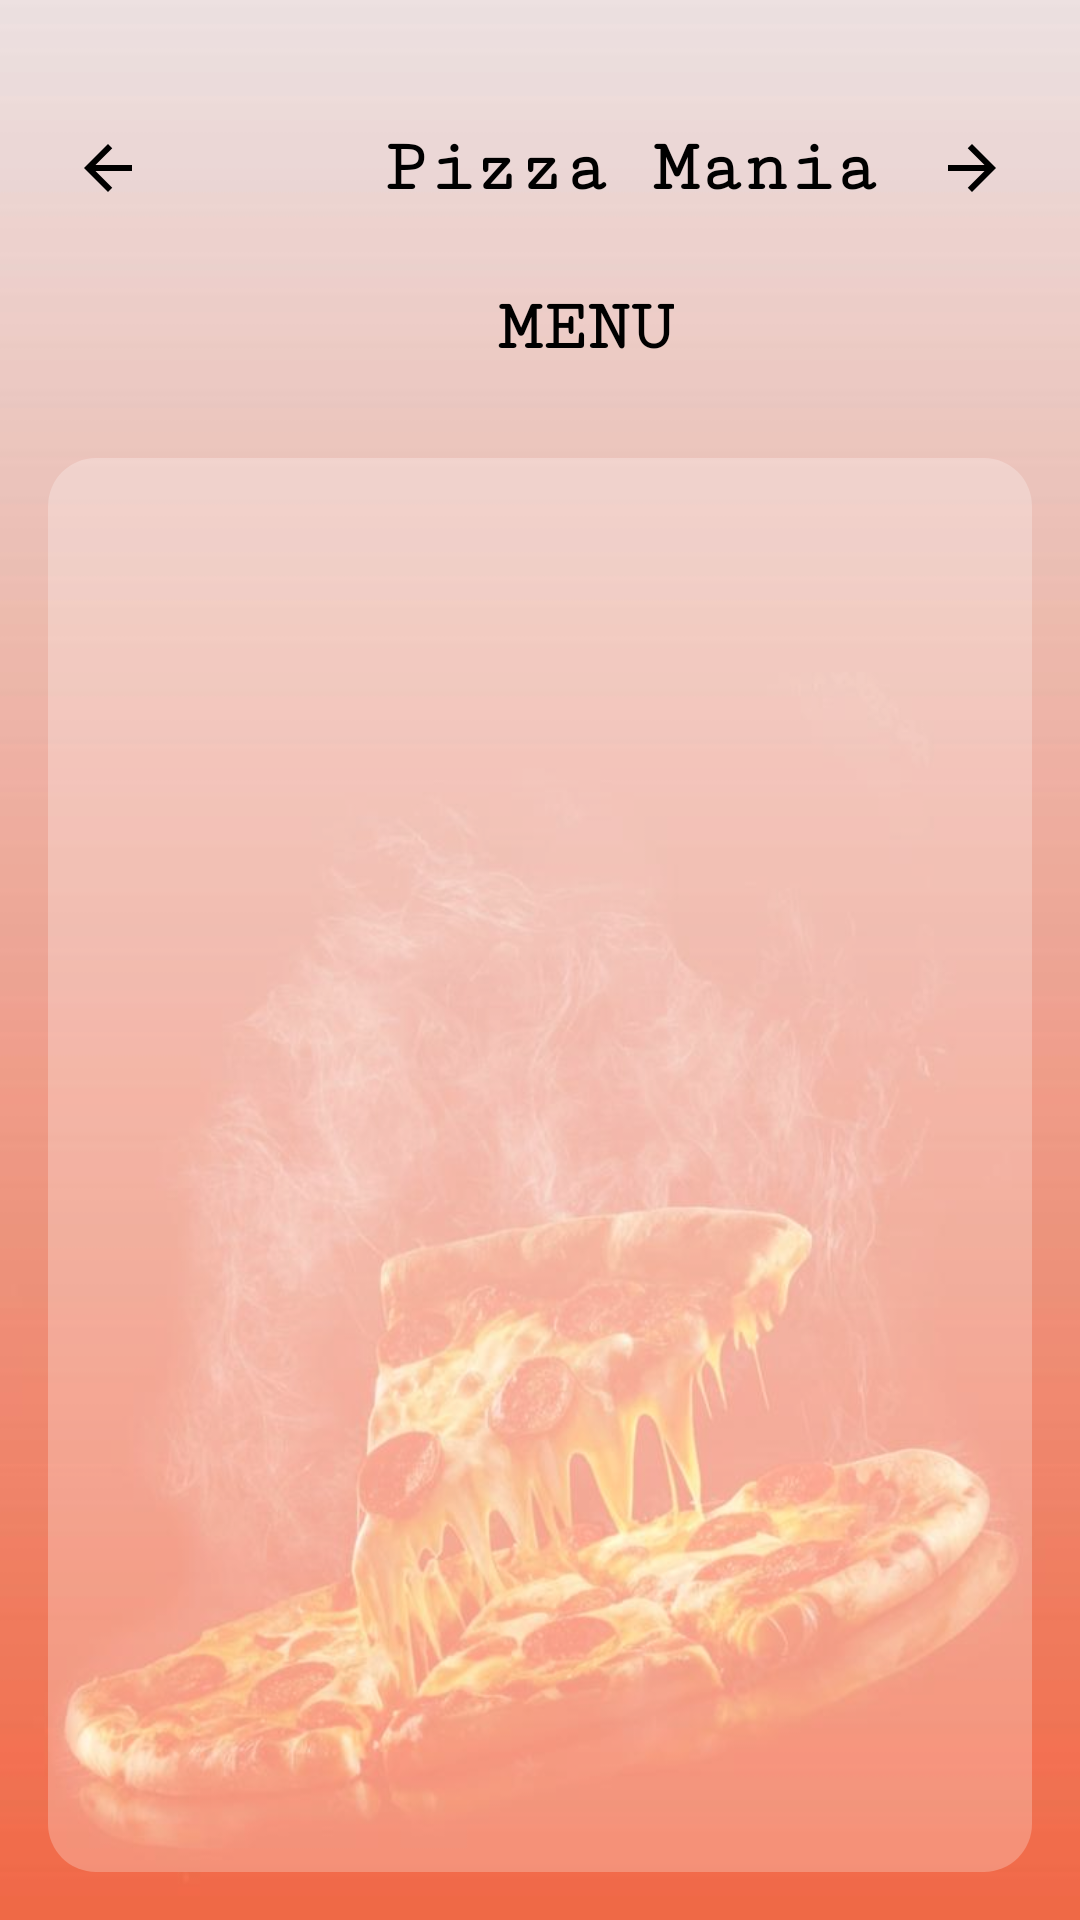

Icons on this 1080*1920 Android screen, each with its box as (x1, y1, x2, y2):
Back: (84, 144, 132, 192)
Next: (948, 144, 996, 192)
